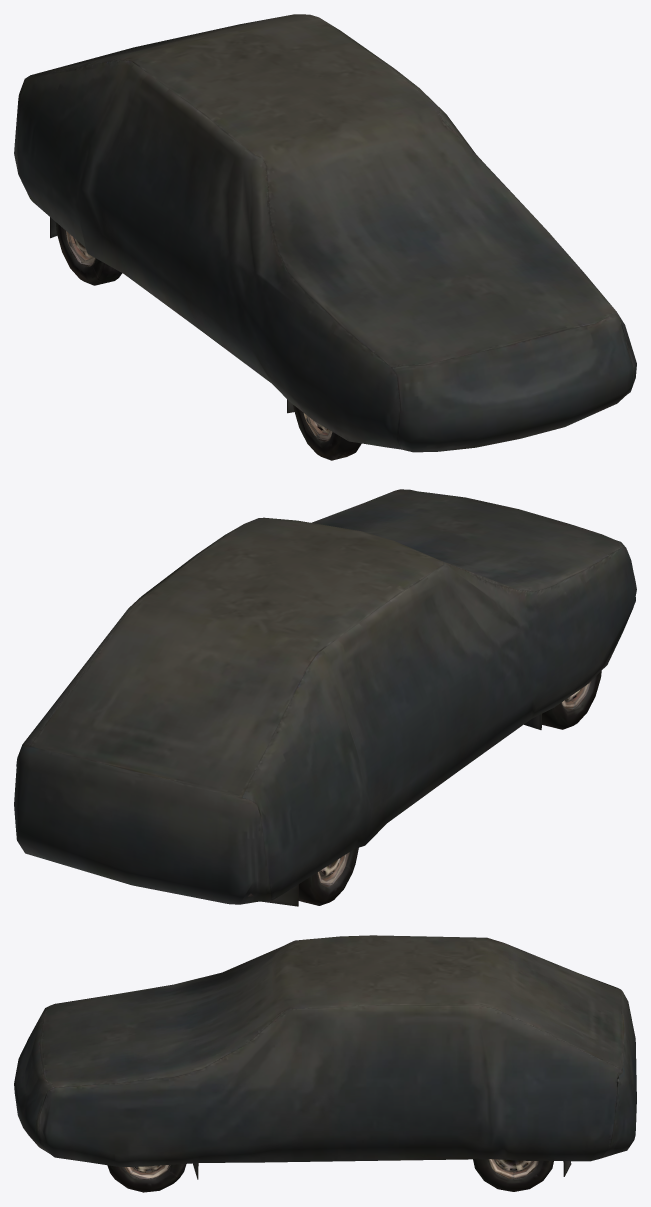
The model's file is covered_car.glb.
The picture shows the model from 3 angles, top to bottom: view 1: azimuth 30°, elevation 25°; view 2: azimuth 150°, elevation 25°; view 3: azimuth 270°, elevation 25°; orthographic projection. The views are drawn at different scales.
Visible parts, largest first — view 1: covered_car_wheel_01; view 2: covered_car_wheel_01; view 3: covered_car_wheel_01.
Part boxes in pixels (x1=…): covered_car_wheel_01: x1=14, y1=14, x2=636, y2=460; covered_car_wheel_01: x1=14, y1=489, x2=636, y2=906; covered_car_wheel_01: x1=14, y1=935, x2=636, y2=1192.
Size of the model in its own units: 1.79 by 1.41 by 4.38.
Materials: 1 (1 with a texture image).
